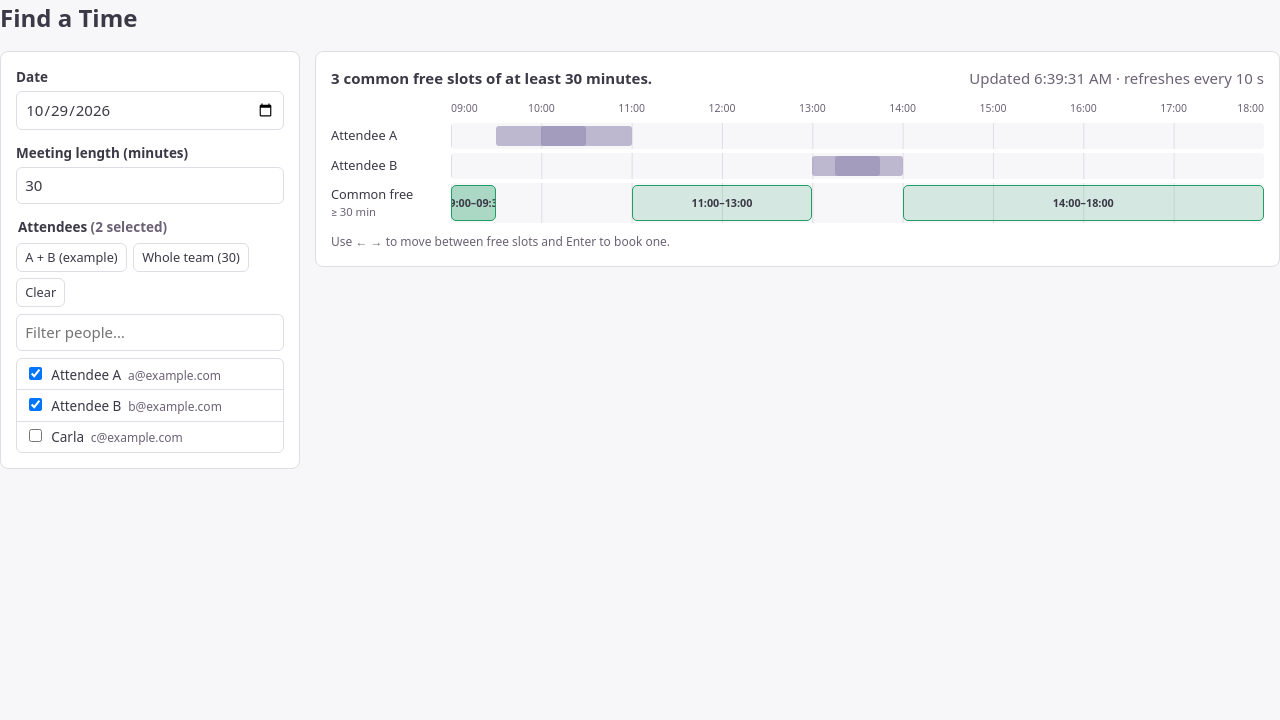
it: FindATimePage › books a free slot in the smallest room that fits the group
The width and height of the screenshot is (1280, 720).
Click the option "11:00–13:00".
click(722, 203)  # box [632,185,812,221]
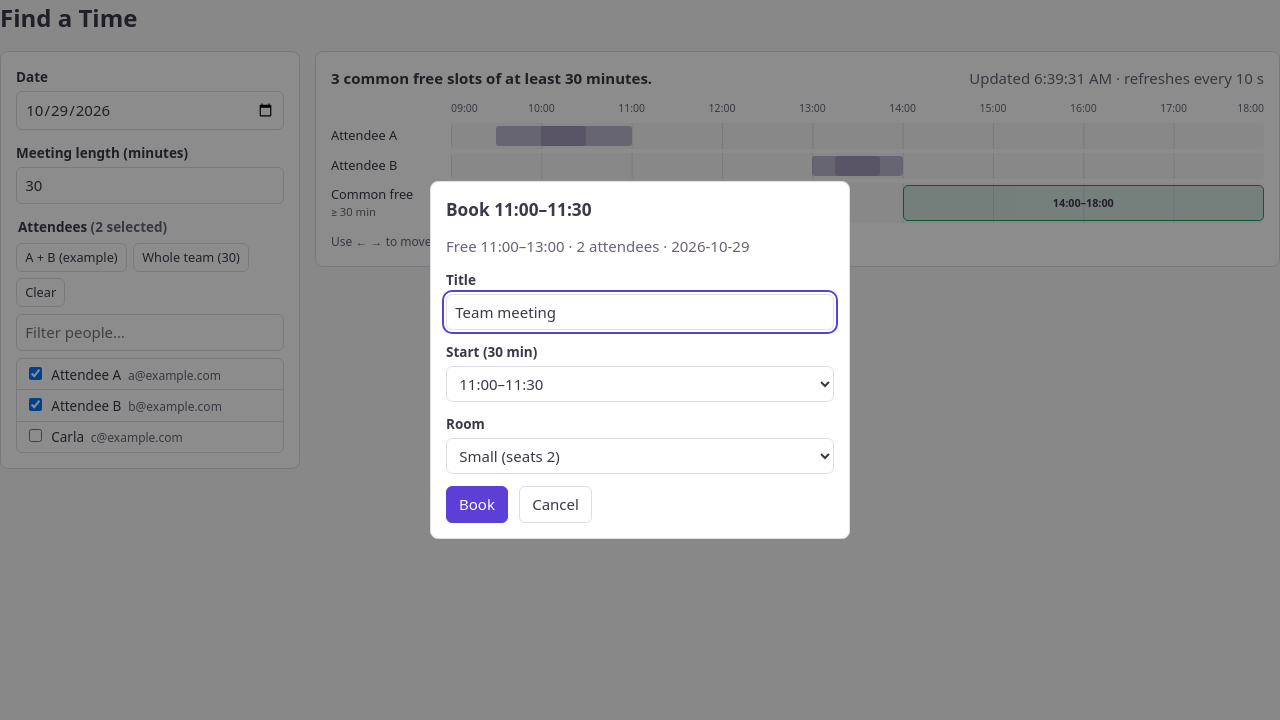
Expected: the dropdown labelled "Room" shows "Small (seats 2)", [446,438,834,474]
Click the button "Book".
click(477, 504)  # box [446,486,508,523]
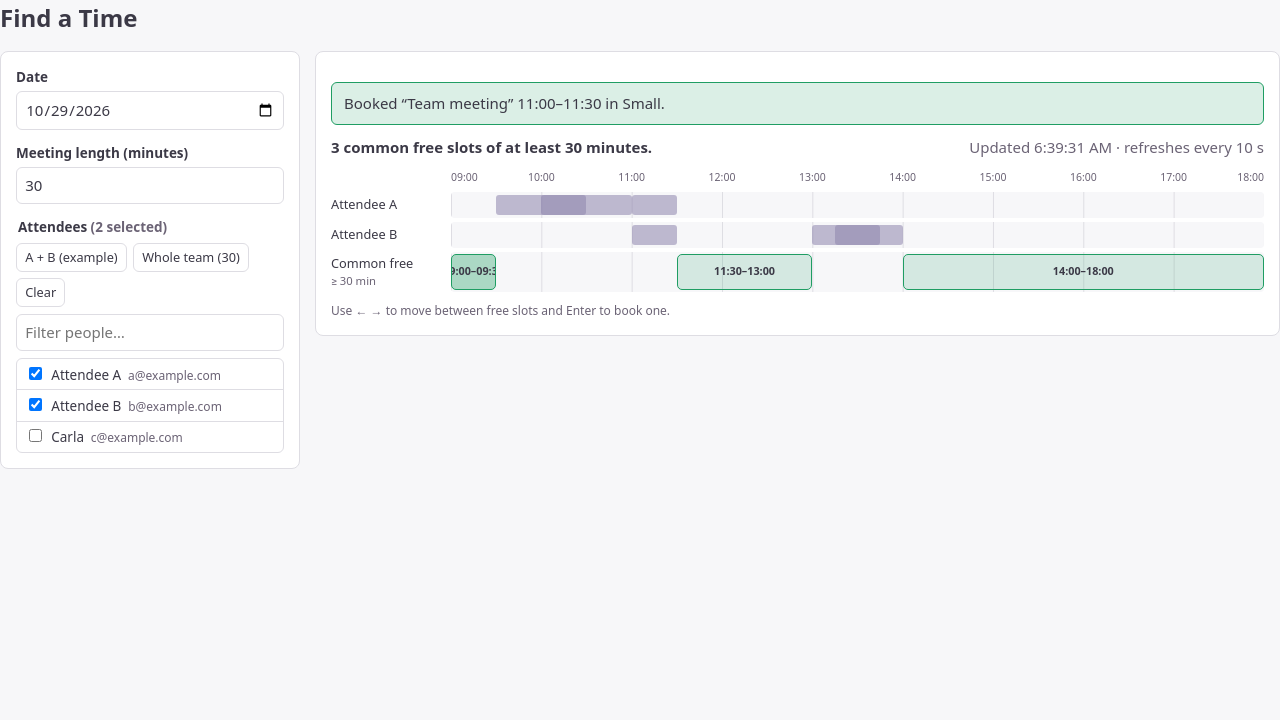
Expected: the text "Booked “Team meeting” 11:00–11:30 in Small." is shown, [331,82,1264,124]
